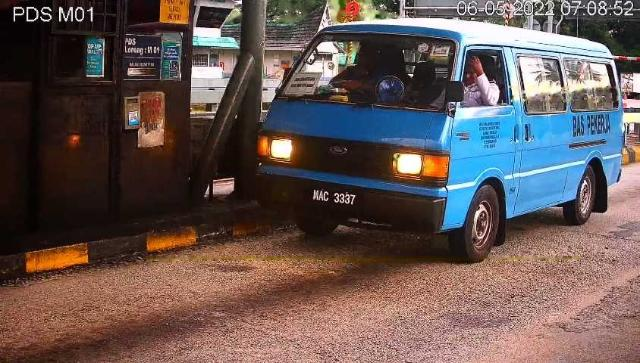License_Plate: (312, 188, 361, 213)
van: (253, 20, 625, 265)
